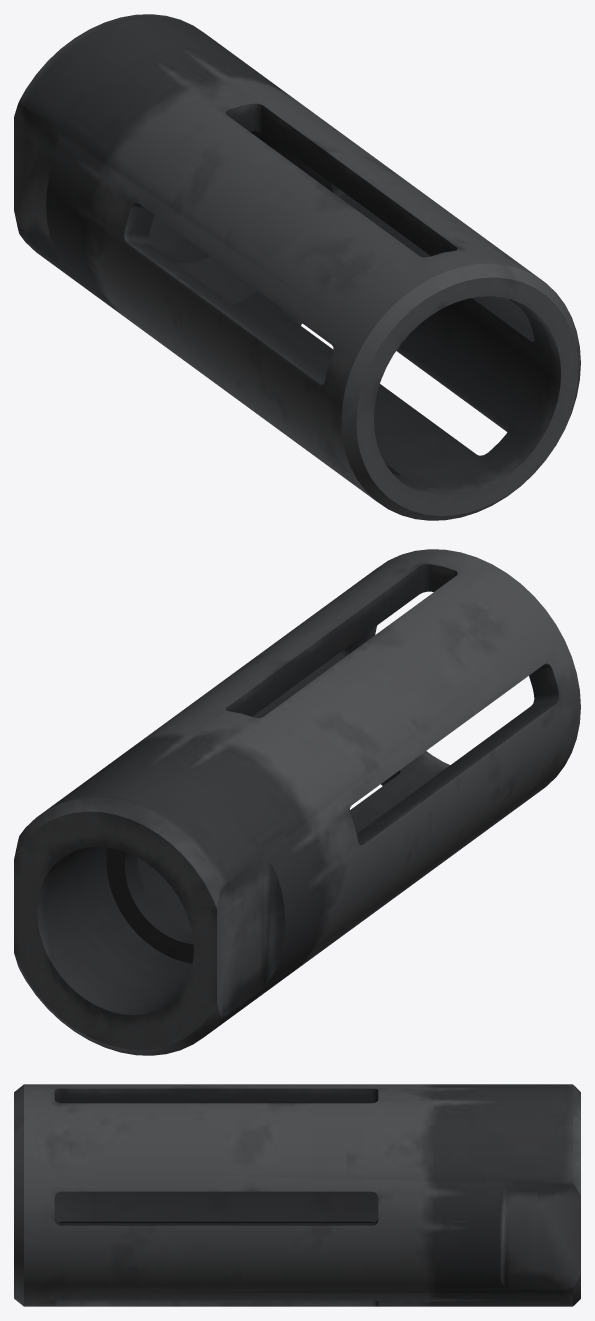
The model's file is muzzle_flash_ar.glb.
3 views of the same model, one above another, from view 1: azimuth 30°, elevation 25°; view 2: azimuth 150°, elevation 25°; view 3: azimuth 270°, elevation 25° (orthographic). The views are drawn at different scales.
Parts seen in each view (by area): view 1: body; view 2: body; view 3: body.
Part boxes in pixels (left/top/right/bottom): body: left=14, top=14, right=580, bottom=520; body: left=14, top=549, right=580, bottom=1055; body: left=14, top=1084, right=580, bottom=1306.
Size of the model in its own units: 0.022 by 0.022 by 0.056.
1 material, 1 textured.
